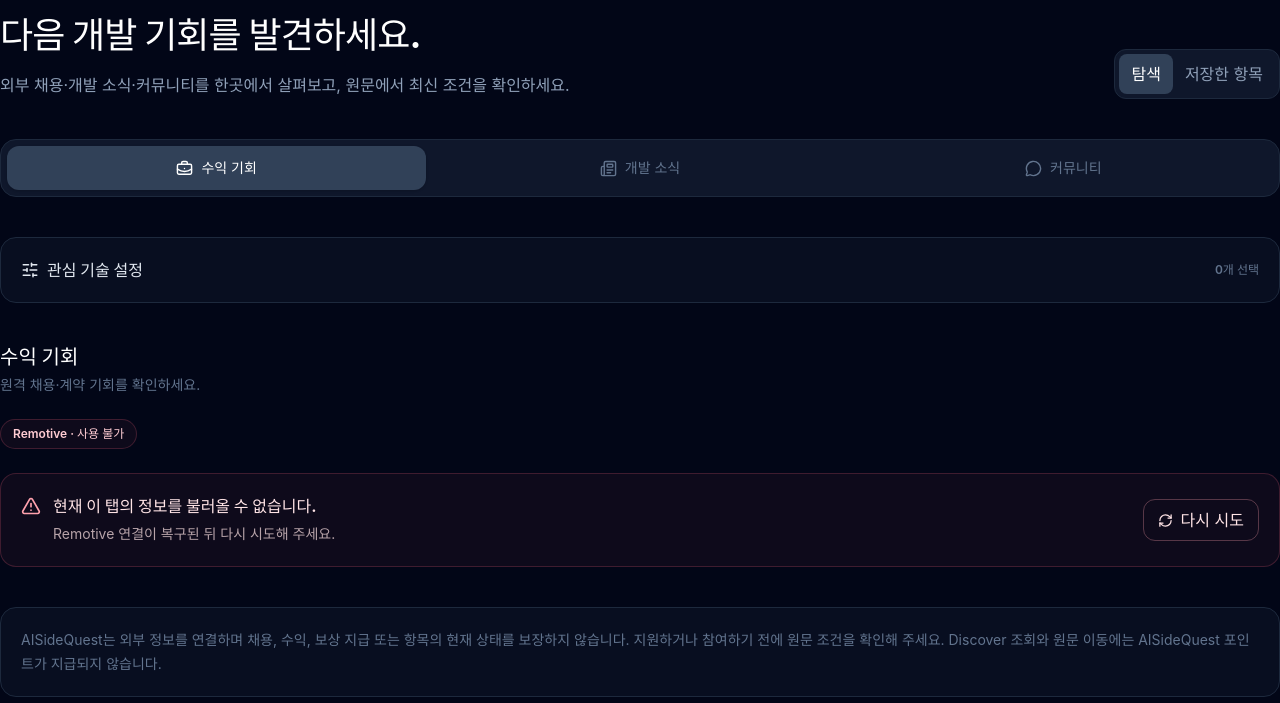
Scenario: Discover page › retries total source unavailability and preserves paging items on a later-page error
Expected: the message shows "현재 이 탭의 정보를 불러올 수 없습니다.", [53,496,317,516]
Click the button "다시 시도" at (1201, 520), box [1143,499,1259,541]
(page scrolled)
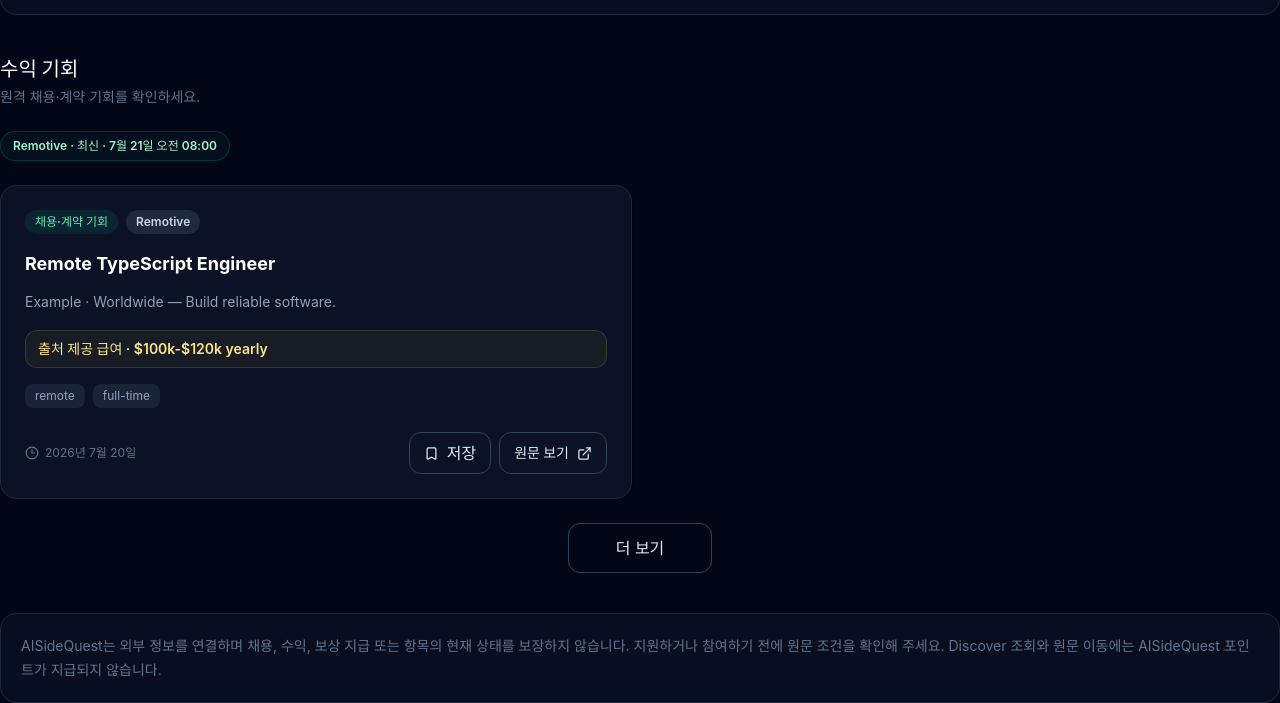
Expected: the heading "Remote TypeScript Engineer" is shown, [25,253,275,274]
Click the button "더 보기" at (640, 548), box [568,523,712,573]
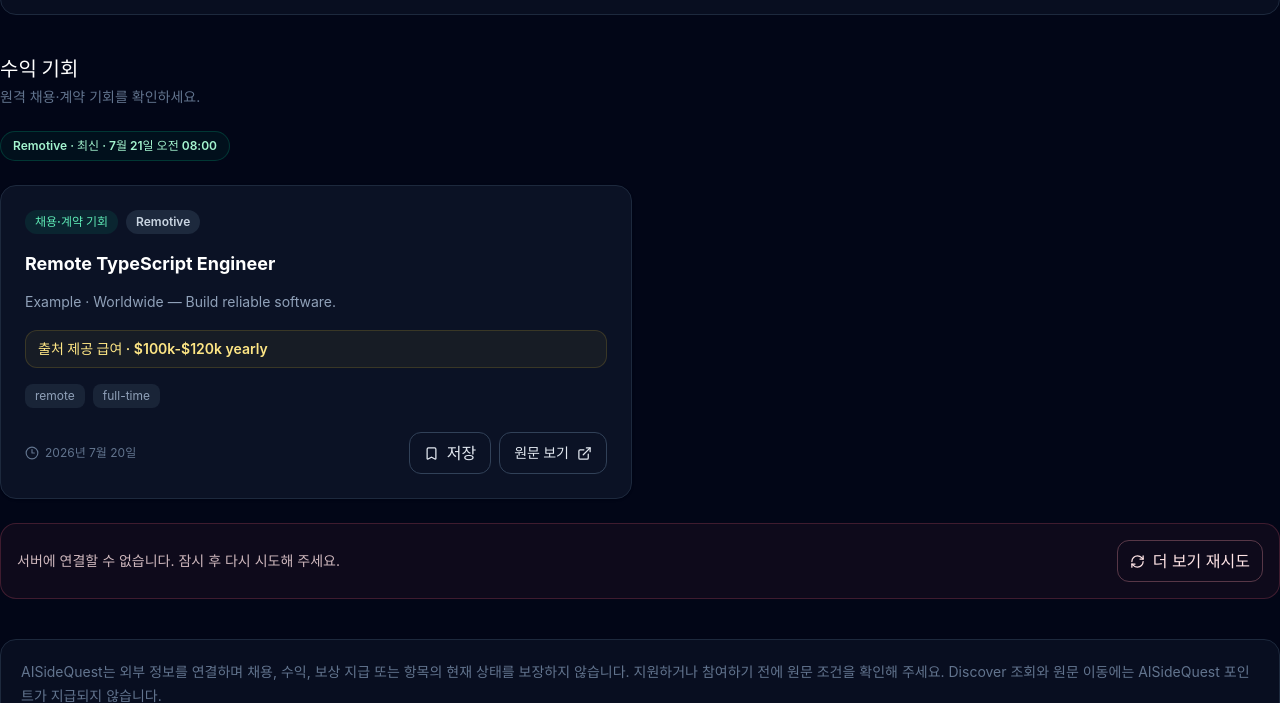
Expected: the heading "Remote TypeScript Engineer" is shown, [25,253,275,274]
Expected: the message shows "서버에 연결할 수 없습니다.", [17,552,340,569]
Click the button "더 보기 재시도" at (1190, 561), box [1117,540,1263,582]
(page scrolled)
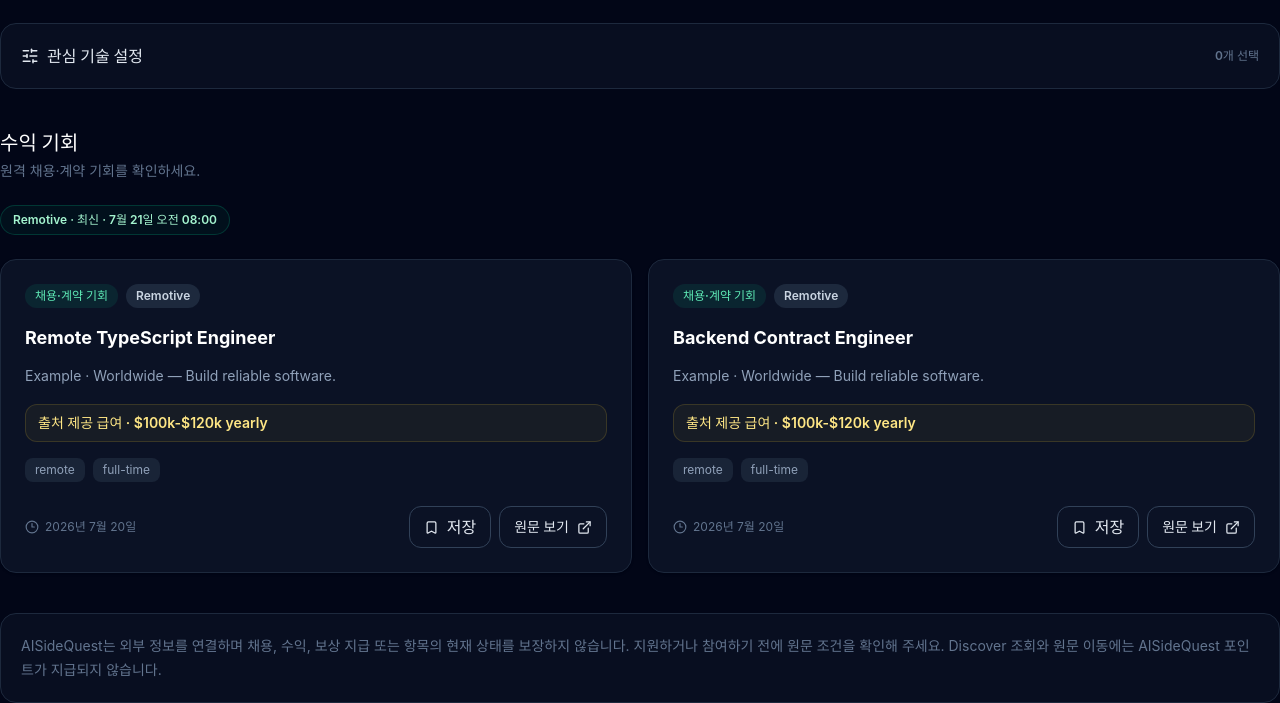
Expected: the heading "Backend Contract Engineer" is shown, [673,327,913,348]
Expected: the button "더 보기" is gone
